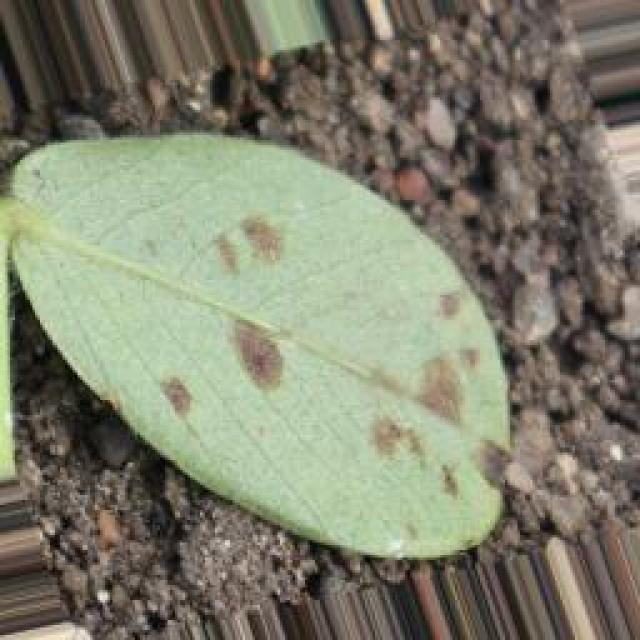Whitefly: (104, 166, 560, 558)
